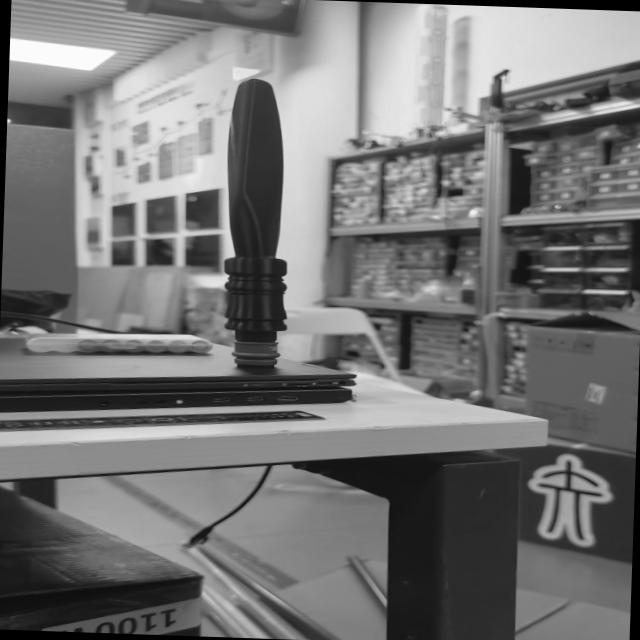base: (228, 340, 280, 368)
